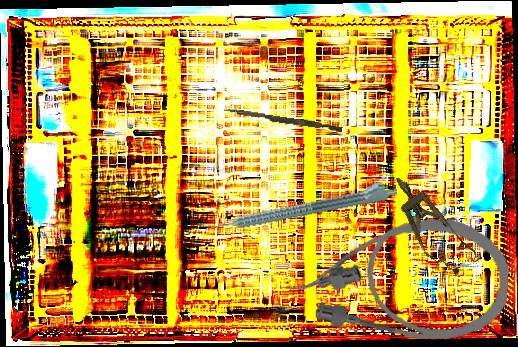Cannula: (283, 209, 512, 345)
Handpiece: (208, 177, 399, 235)
Pusher: (223, 107, 343, 133)
Speculum: (379, 165, 483, 284)
